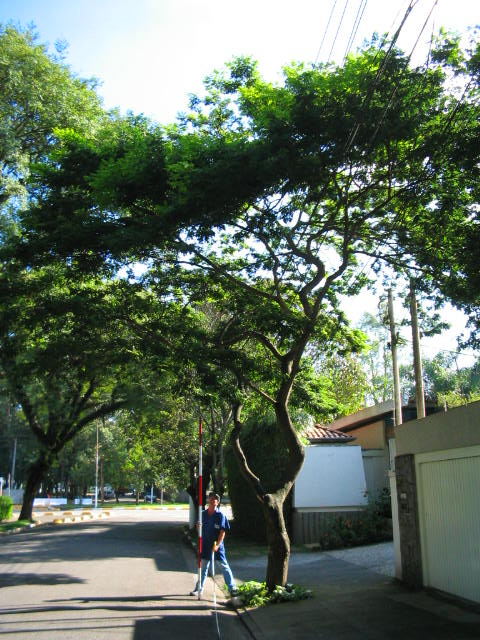crown: (29, 32, 477, 397)
stem: (251, 501, 306, 593)
stick: (192, 415, 207, 601)
tree: (25, 28, 479, 596)
